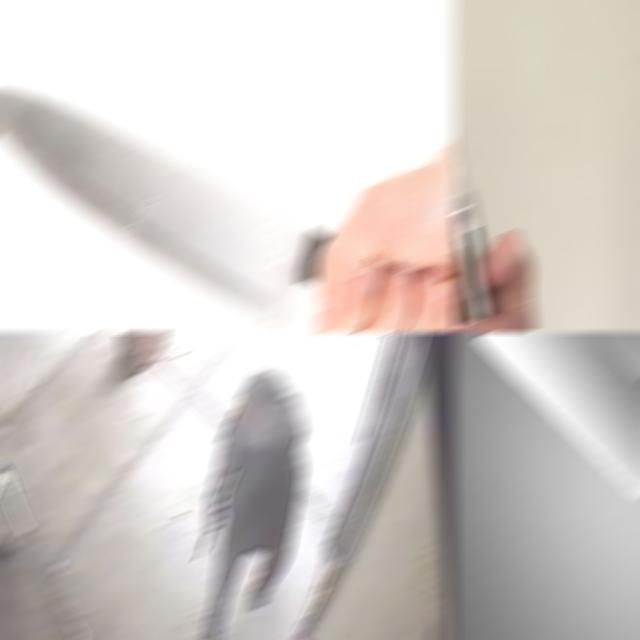Knife: (0, 89, 331, 327), (477, 333, 640, 496)
Knife_Handle: (451, 1, 537, 331), (194, 503, 225, 559)
